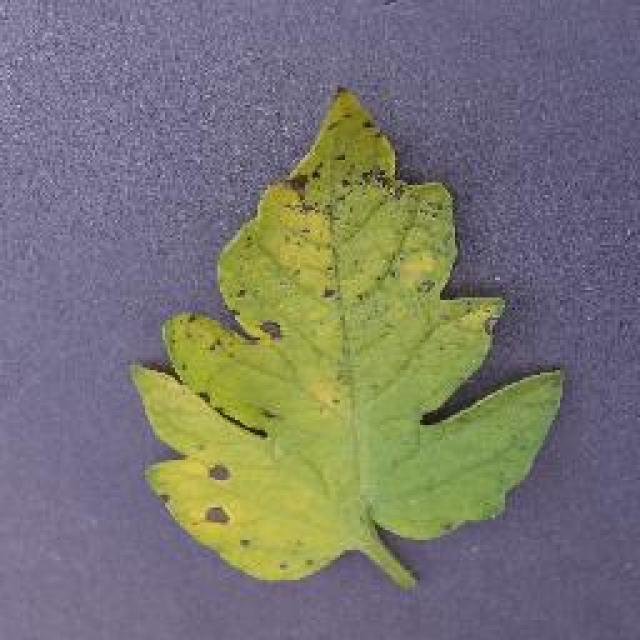Tomato___Septoria_leaf_spot: (132, 90, 560, 585)
